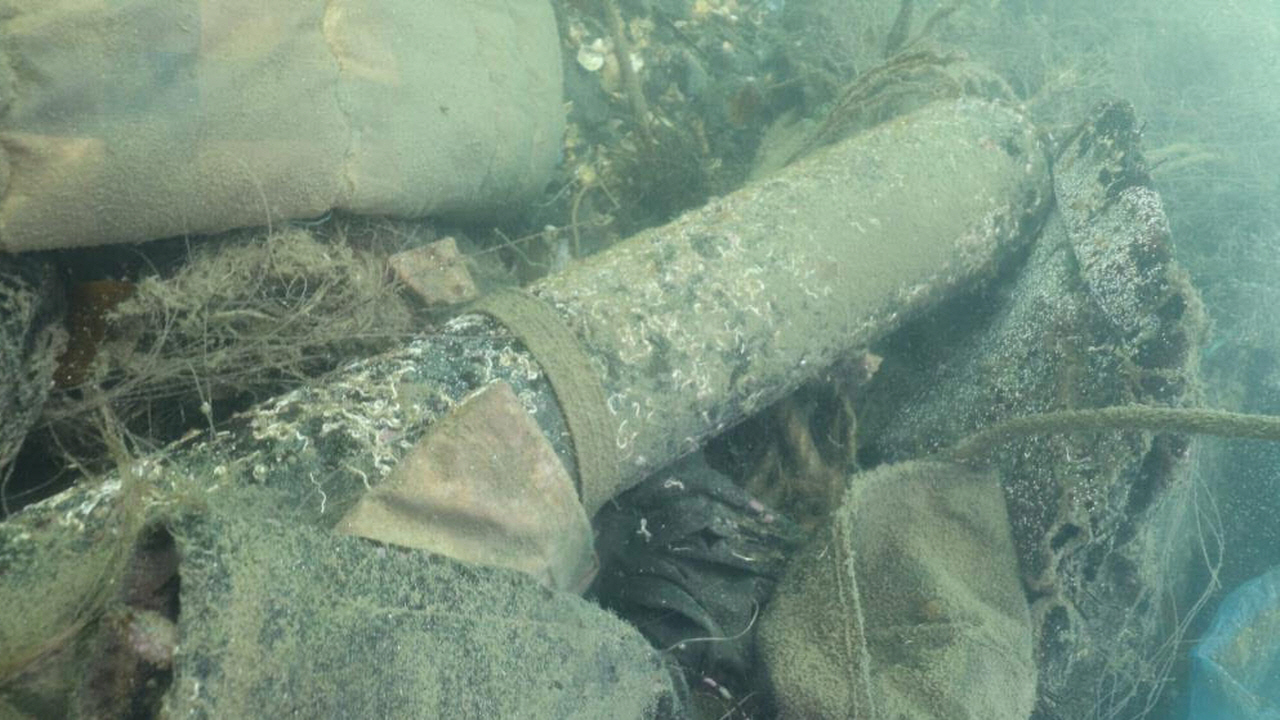eel fish trap: (0, 95, 1053, 720)
rope: (945, 404, 1280, 459)
